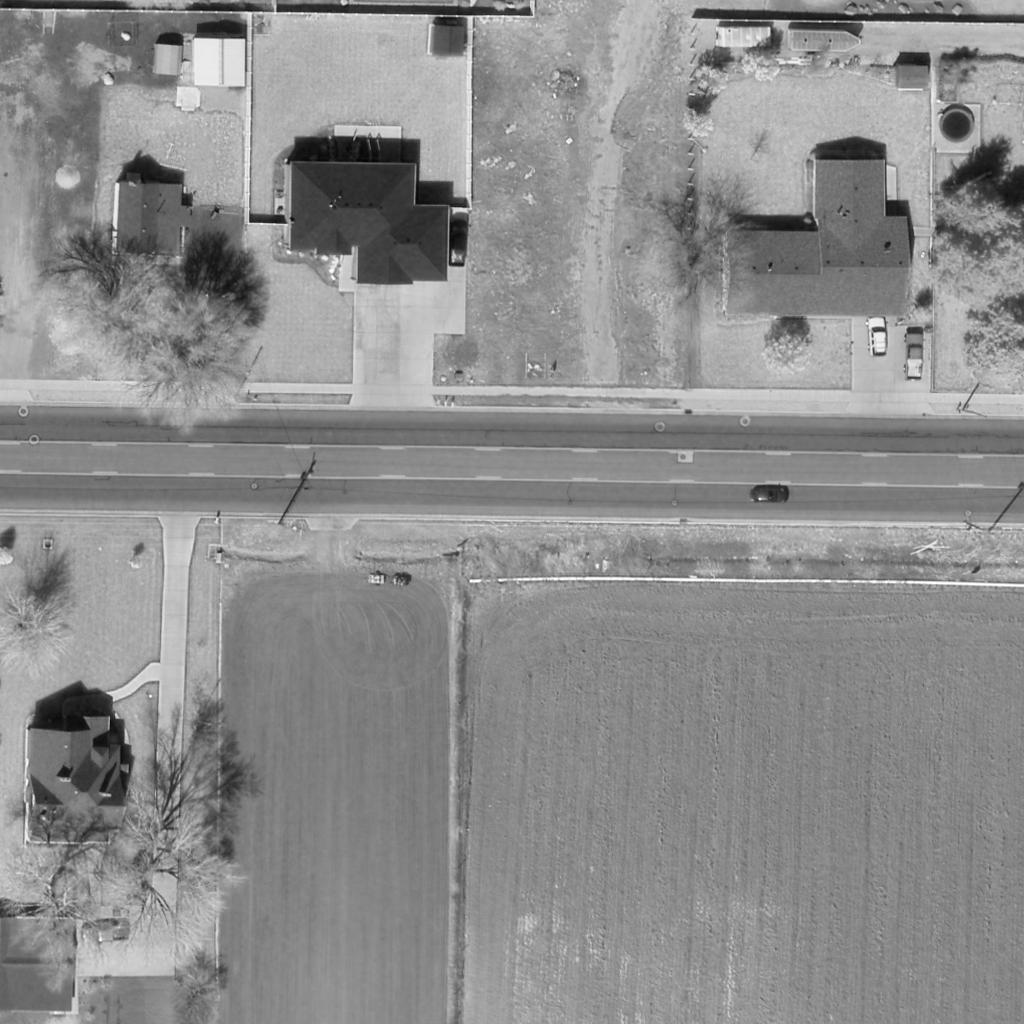vehicle: (788, 26, 864, 56), (712, 24, 774, 50), (78, 921, 130, 947), (904, 332, 924, 382), (450, 221, 470, 267), (866, 318, 888, 358), (750, 489, 790, 503)
